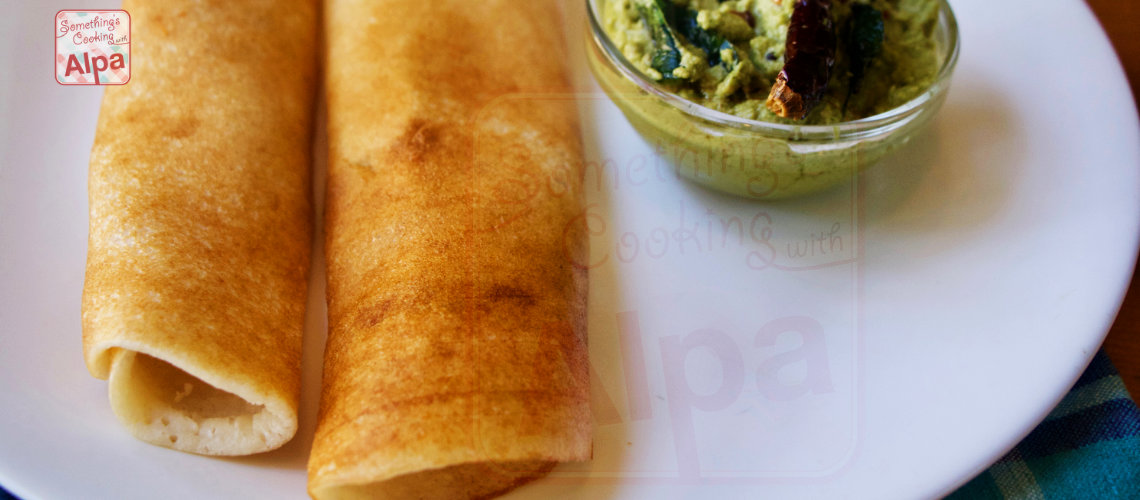dosa: (79, 3, 596, 500)
